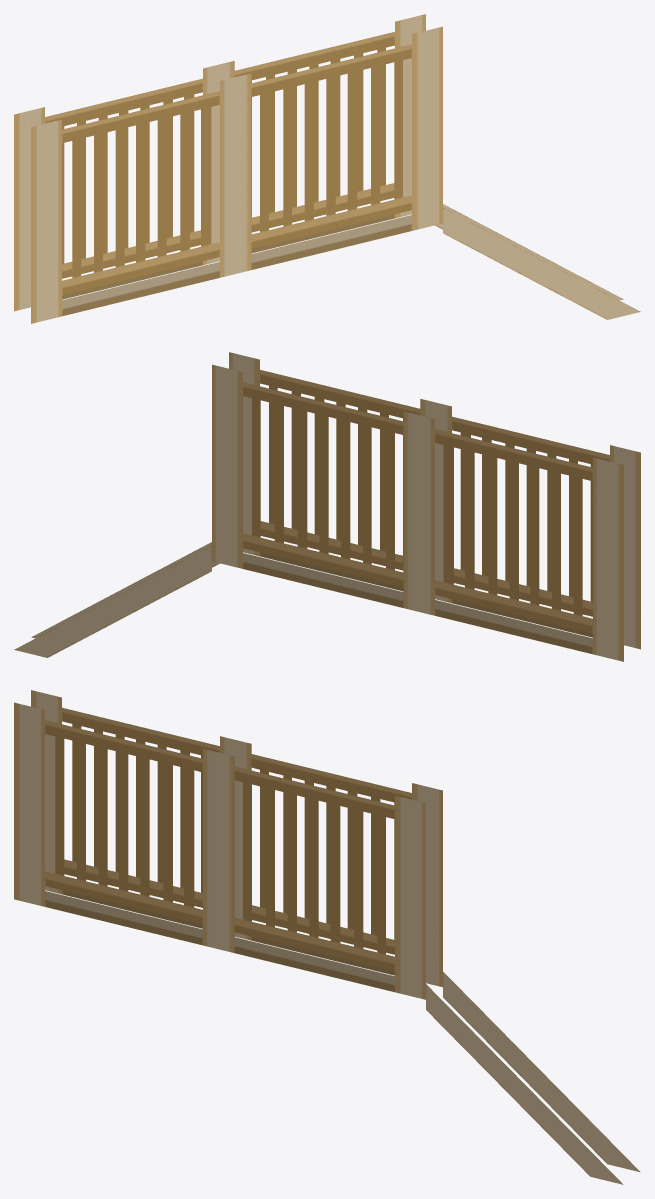
The model's file is loghouse_B.fbx.
The picture shows the model from 3 angles, top to bottom: view 1: azimuth 30°, elevation 25°; view 2: azimuth 150°, elevation 25°; view 3: azimuth 330°, elevation 25°; orthographic projection.
Parts seen in each view (by area): view 1: grid31, grid33; view 2: grid33, grid31; view 3: grid31, grid33.
Part boxes in pixels (x1=…): grid31: x1=31, y1=26, x2=640, y2=323; grid33: x1=14, y1=14, x2=623, y2=311; grid33: x1=14, y1=364, x2=623, y2=661; grid31: x1=31, y1=352, x2=640, y2=649; grid31: x1=14, y1=702, x2=623, y2=1184; grid33: x1=31, y1=690, x2=640, y2=1172.
Size of the model in its own units: 413 by 216 by 20.
